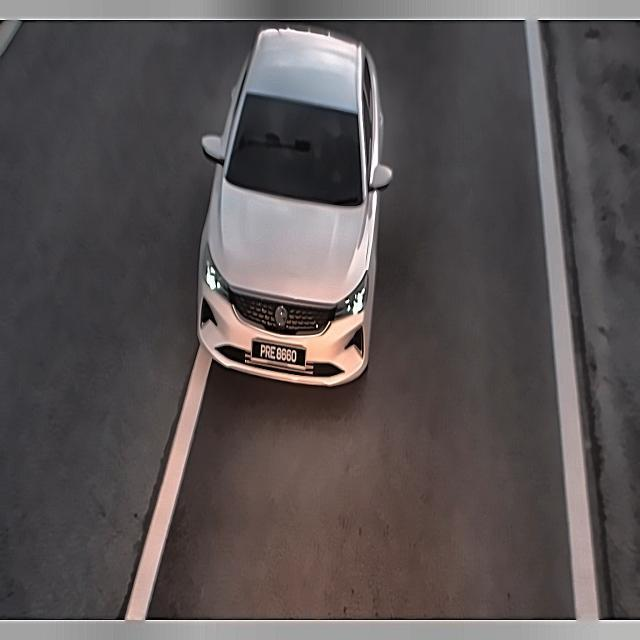car: (248, 328, 314, 380)
